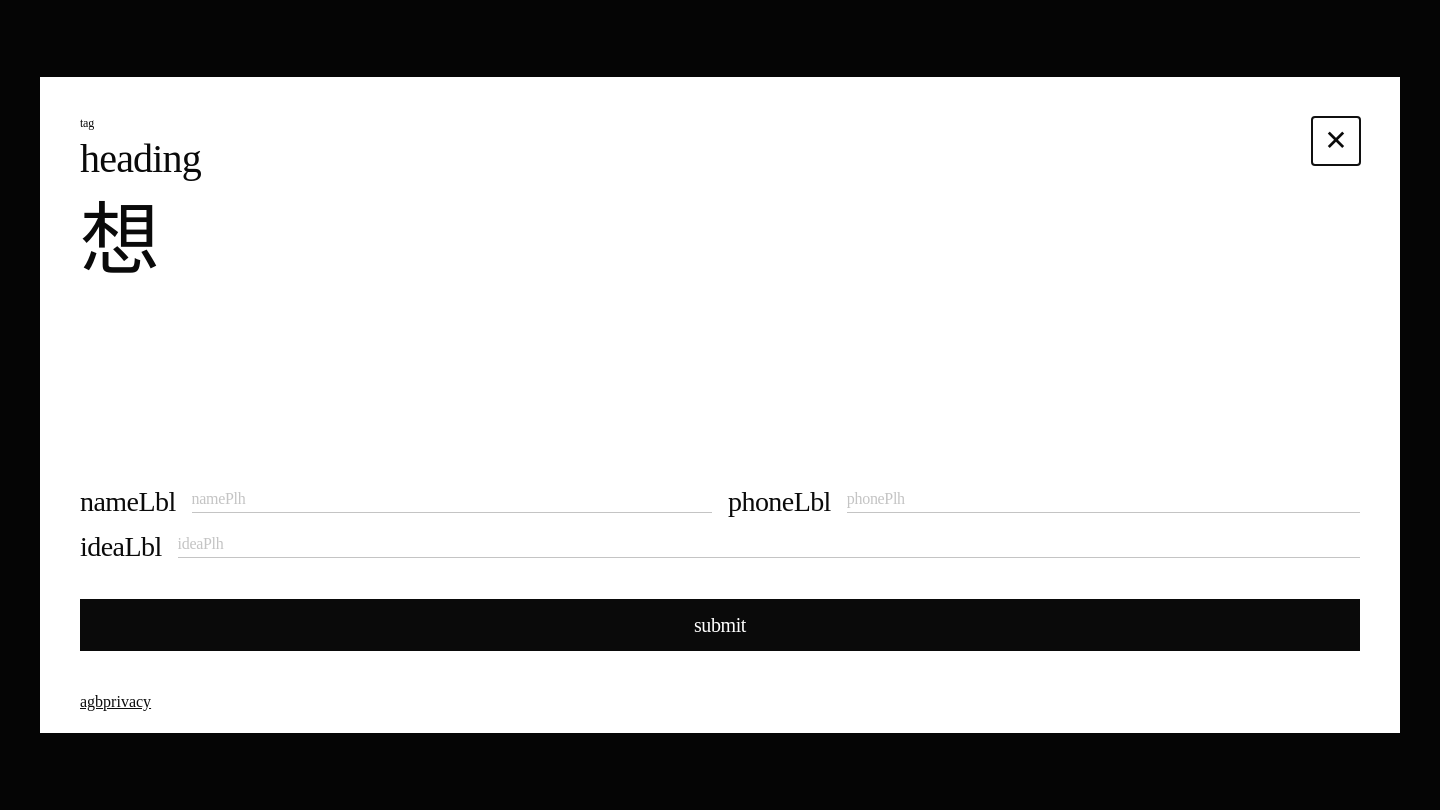
Test: FormPopup › shows error state after failed fetch
Type "Anna" into the field named "name" at (452,499), box [192,490,712,508]
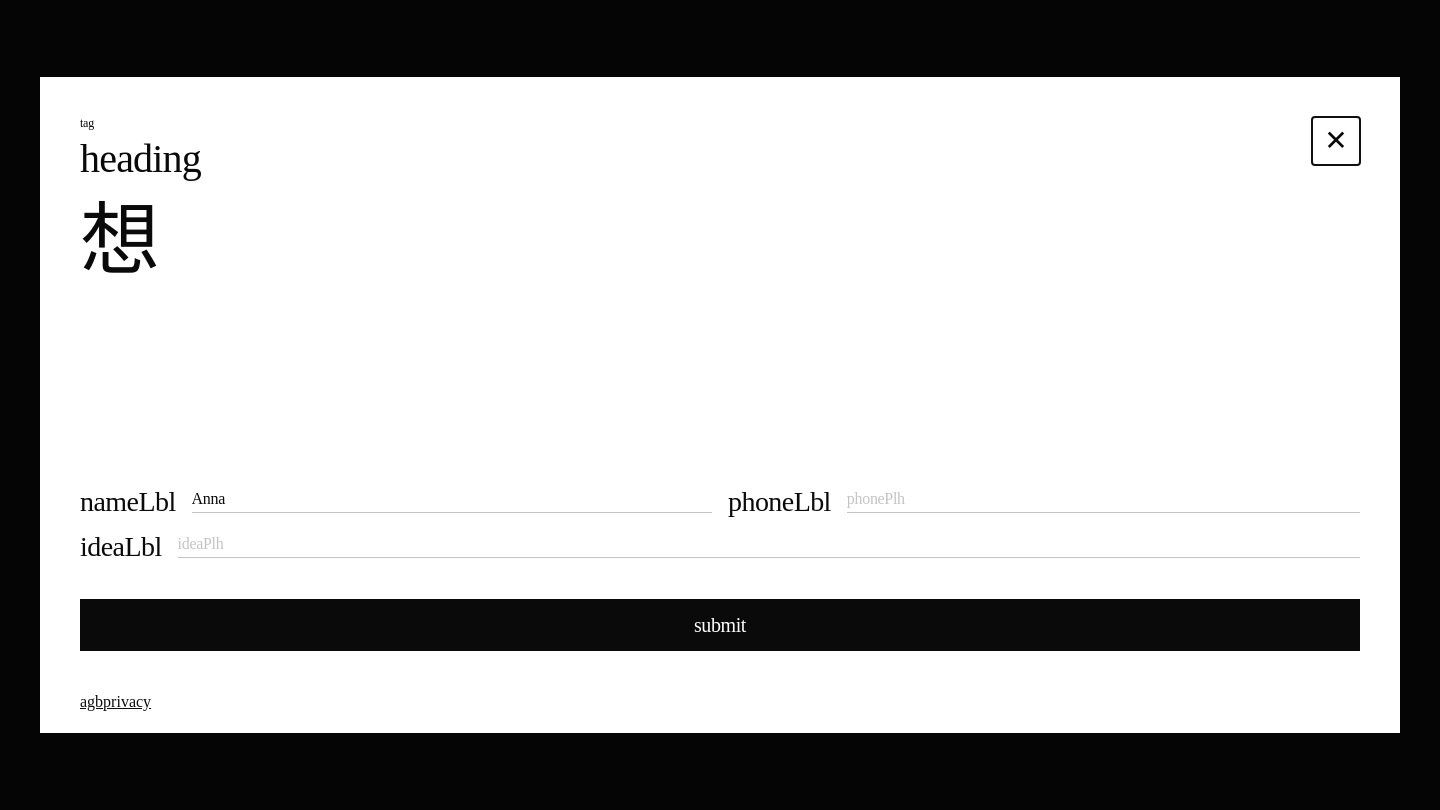
Type "+49123456789" into the field named "phone" at (1103,499), box [847,490,1360,508]
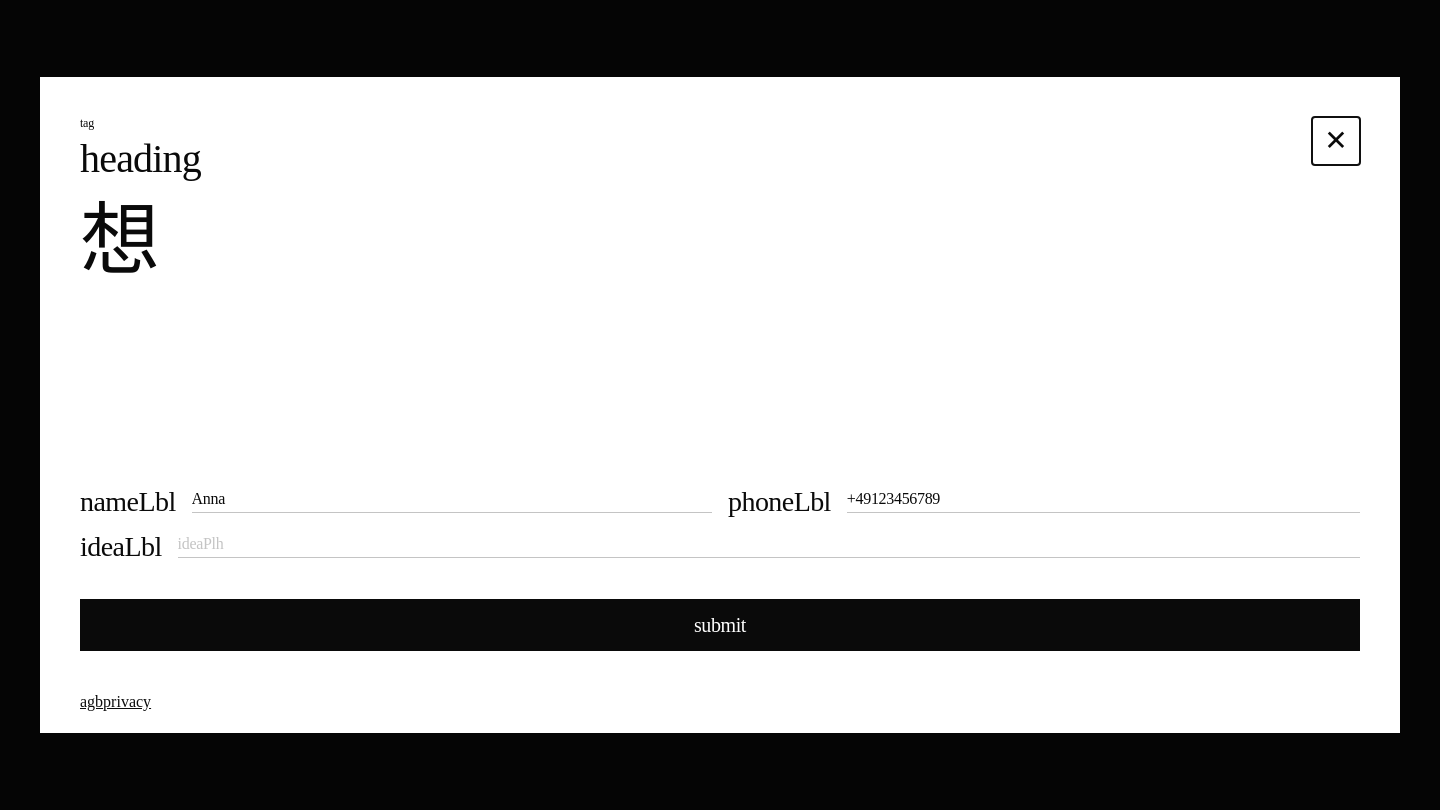
Submit the form, box [60,469,1380,713]
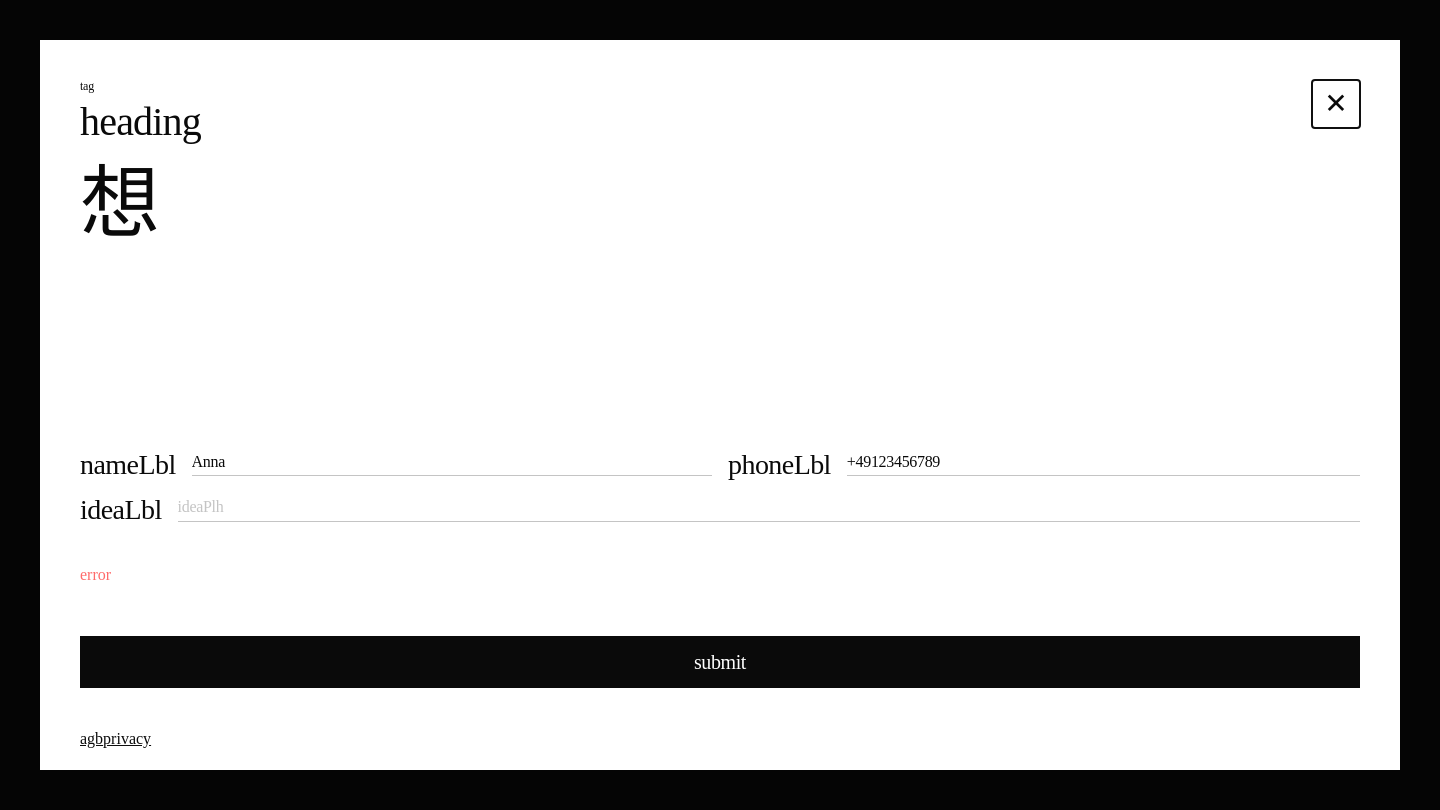
Expected: the text "error" is shown, [80,566,111,583]
